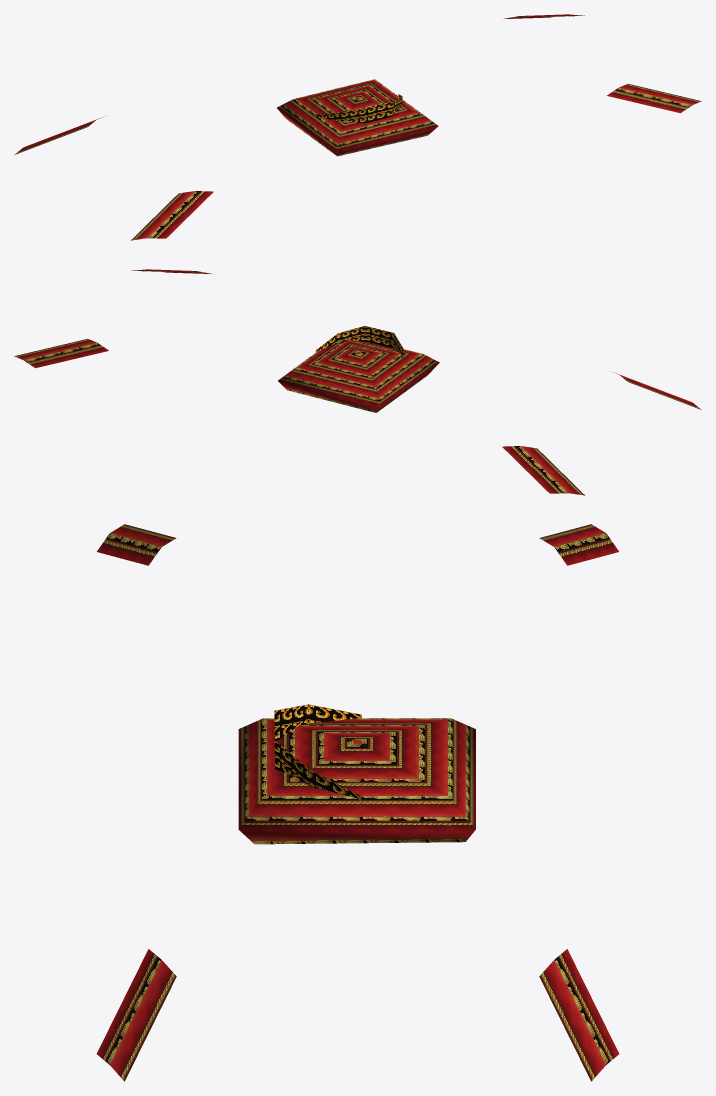
Rendered from 5330um_ac_hed0.gltf.
The picture shows the model from 3 angles, top to bottom: view 1: azimuth 30°, elevation 25°; view 2: azimuth 150°, elevation 25°; view 3: azimuth 270°, elevation 25°; orthographic projection. The views are drawn at different scales.
Parts seen in each view (by area): view 1: 5330um_ac_hed0; view 2: 5330um_ac_hed0; view 3: 5330um_ac_hed0.
Part boxes in pixels (<box>): 5330um_ac_hed0: <box>14,14,701,240</box>; 5330um_ac_hed0: <box>14,269,701,495</box>; 5330um_ac_hed0: <box>96,524,619,1081</box>.
Bounding box in the file's own units: 5.26 × 0.3518 × 2.08.
Materials: 2 (2 with a texture image).
